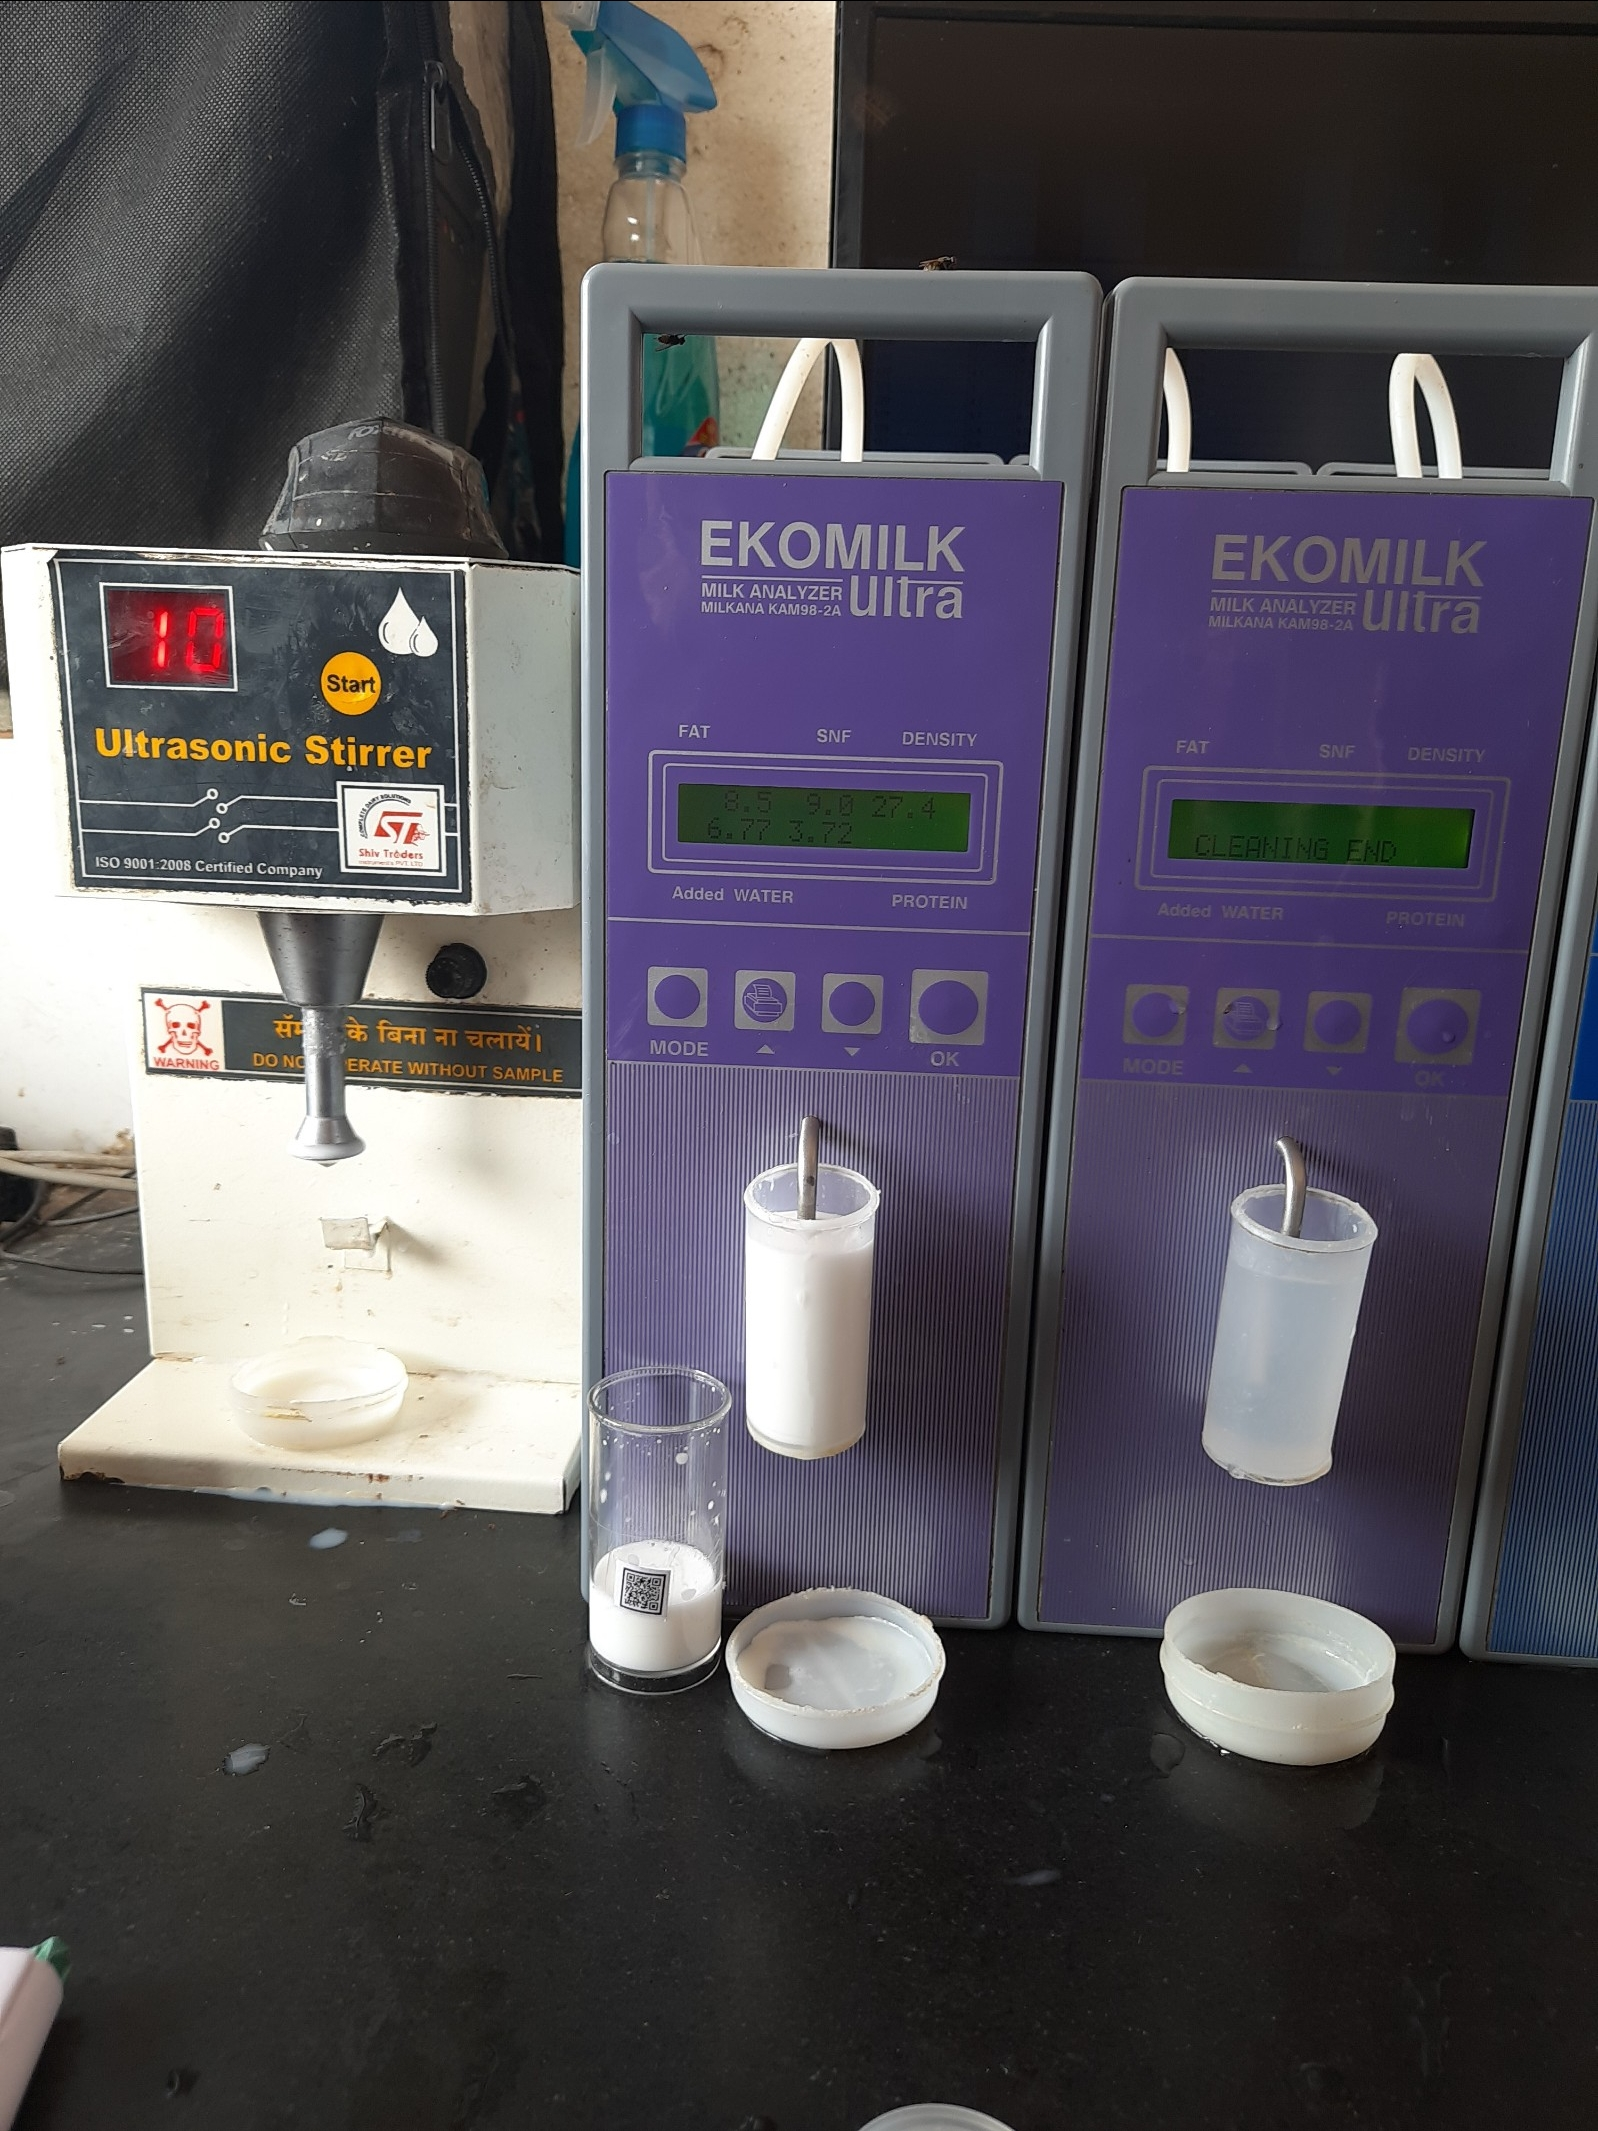lcd: (665, 770, 987, 866), (1163, 787, 1480, 878)
qr: (609, 1562, 680, 1623)
